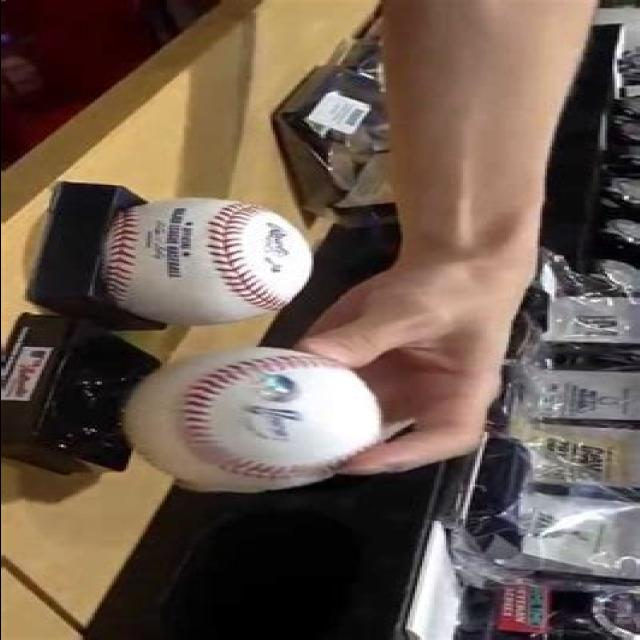ball: (118, 345, 380, 492), (103, 197, 314, 325)
